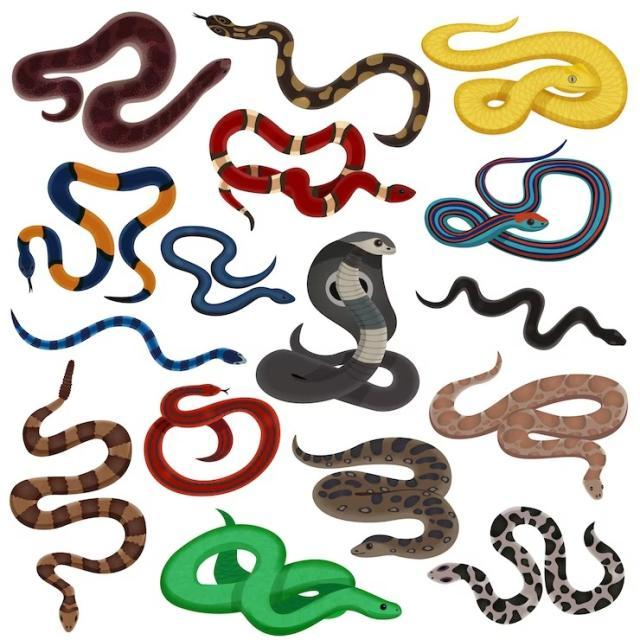Snake: (426, 0, 633, 139)
